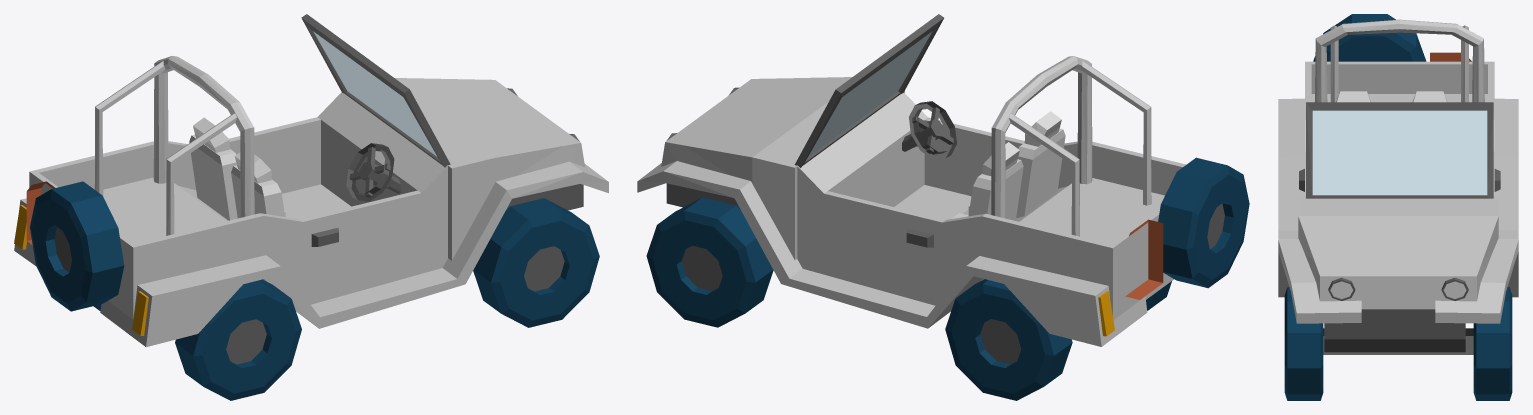
The model's file is car_jeep.glb.
3 views of the same model, side by side, from view 1: azimuth 30°, elevation 25°; view 2: azimuth 150°, elevation 25°; view 3: azimuth 270°, elevation 25° (orthographic). The views are drawn at different scales.
Parts seen in each view (by area): view 1: hull, wheels; view 2: hull, wheels; view 3: hull, wheels.
Part boxes in pixels (<box>): hull: <box>26,14,584,319</box>; wheels: <box>14,161,608,400</box>; hull: <box>661,14,1249,320</box>; wheels: <box>637,161,1171,400</box>; hull: <box>1298,14,1498,354</box>; wheels: <box>1278,98,1518,400</box>.
Bounding box in the file's own units: 4.56 × 2.33 × 2.04.
